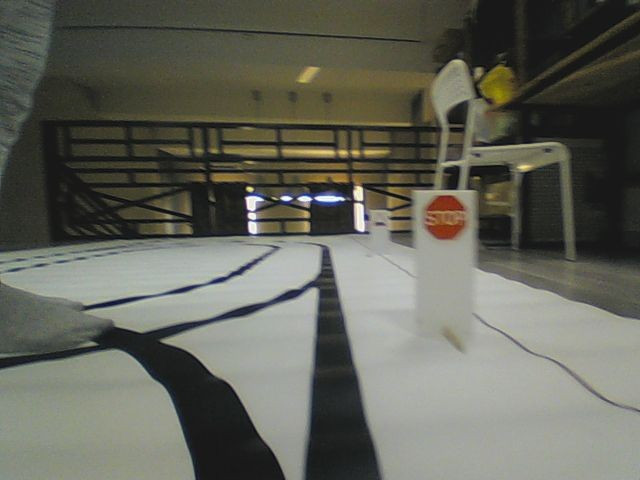Stop: (421, 194, 468, 241)
